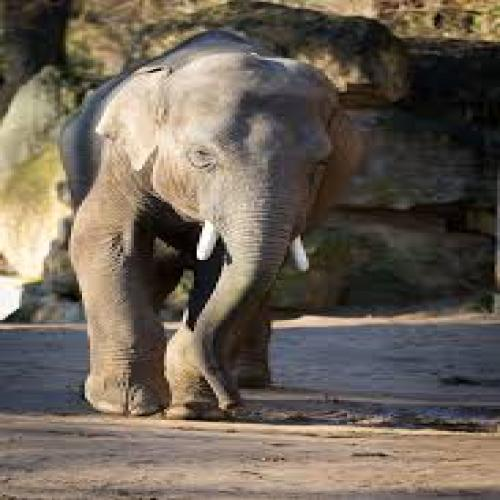asian_elephant-endangered: (59, 34, 357, 422)
